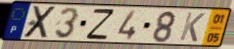3: (51, 6, 82, 40)
4: (116, 9, 138, 42)
8: (151, 9, 177, 44)
K: (178, 11, 207, 43)
X: (21, 5, 59, 39)
Z: (84, 8, 117, 40)
